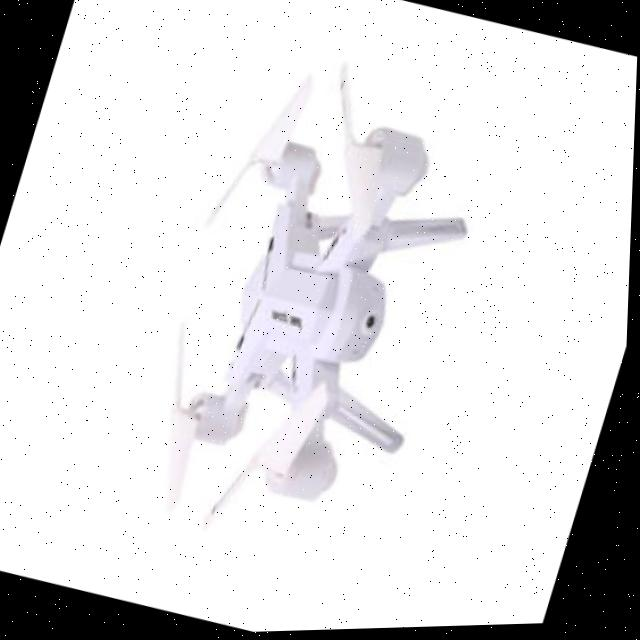drones: (71, 0, 555, 621)
